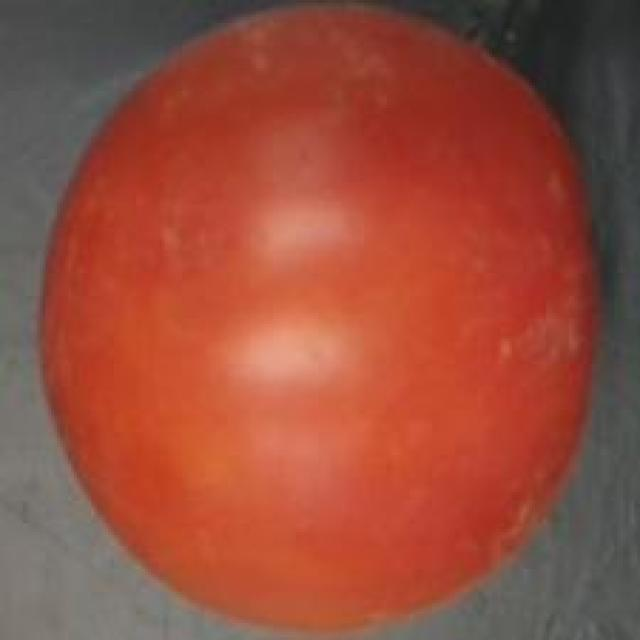overripe tomato: (31, 0, 609, 640)
